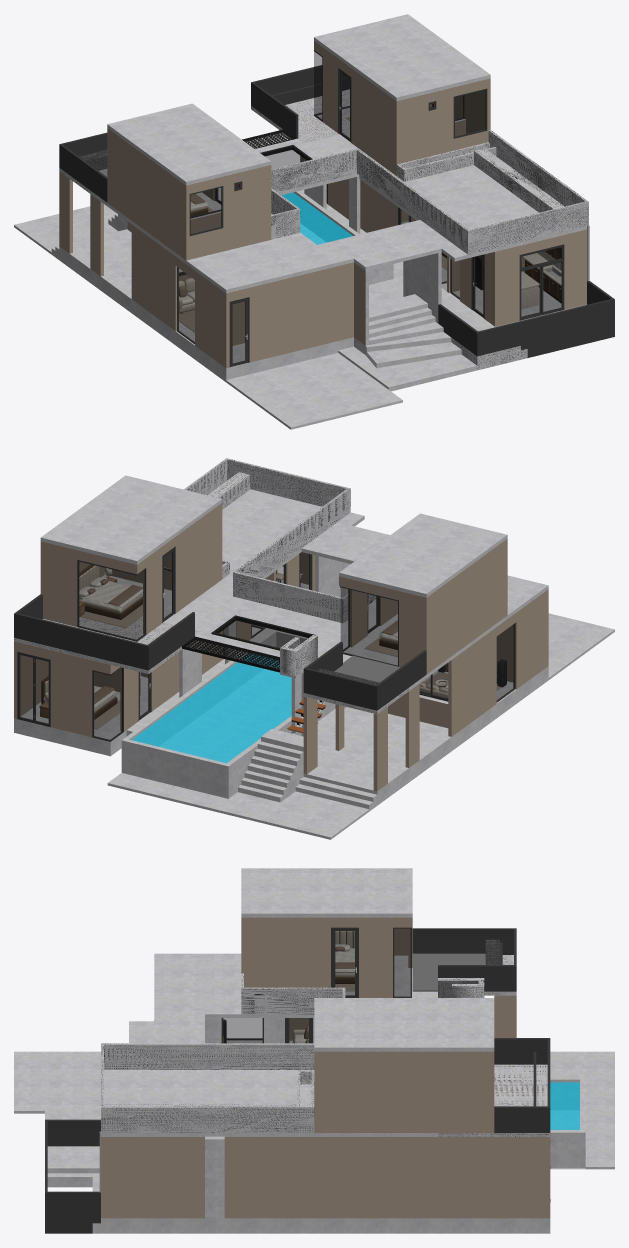
3 renders of one model, top to bottom at view 1: azimuth 30°, elevation 25°; view 2: azimuth 150°, elevation 25°; view 3: azimuth 270°, elevation 25°, orthographic. The views are drawn at different scales.
Parts seen in each view (by area): view 1: Ground floor, Upper floor, Roof, Furniture_floor_1_Kitchen and island, Door_06, Door_14, Door_13, Door_08, Furniture_floor_1_Living and karaoke, Door_01; view 2: Ground floor, Upper floor, Roof, Furniture_floor_2_Bedroom 4 east, Furniture_floor_1_Bedroom 2 rear east, Furniture_floor_1_Living and karaoke, Door_08, Furniture_floor_2_Bedroom 3 west, Door_03; view 3: Upper floor, Ground floor, Roof, Door_07, Furniture_floor_2_Bedroom 3 west, Door_04.
Part boxes in pixels (x1,y1,x2,y2): Ground floor: (14,137,614,429); Upper floor: (59,41,589,293); Roof: (107,14,490,185); Furniture_floor_1_Kitchen and island: (475,247,561,308); Door_06: (230,298,248,366); Door_14: (541,261,563,313); Door_13: (520,266,541,318); Door_08: (339,70,350,141); Furniture_floor_1_Living and karaoke: (179,278,194,332); Door_01: (472,254,483,317); Ground floor: (14,552,614,839); Upper floor: (14,458,548,714); Roof: (40,475,507,597); Furniture_floor_2_Bedroom 4 east: (79,564,142,627); Furniture_floor_1_Bedroom 2 rear east: (39,676,120,729); Furniture_floor_1_Living and karaoke: (419,659,506,698); Door_08: (163,548,174,621); Furniture_floor_2_Bedroom 3 west: (364,620,397,656); Door_03: (139,672,150,720); Upper floor: (99,917,550,1136); Ground floor: (14,995,614,1233); Roof: (241,868,494,1051); Door_07: (332,929,357,997); Furniture_floor_2_Bedroom 3 west: (335,931,354,991); Door_04: (286,1018,311,1043).
Size of the model in its own units: 15.1 by 7.3 by 21.4.
33 materials, 16 textured.
